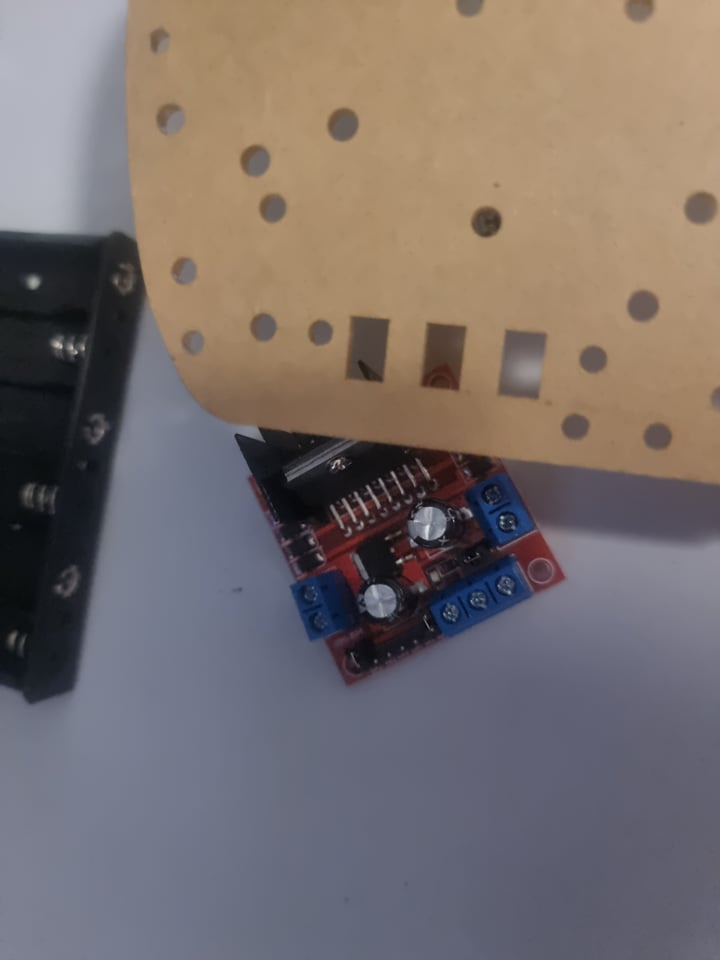BATTERY BOX: (0, 210, 143, 707)
MOTOR: (228, 377, 566, 686)
